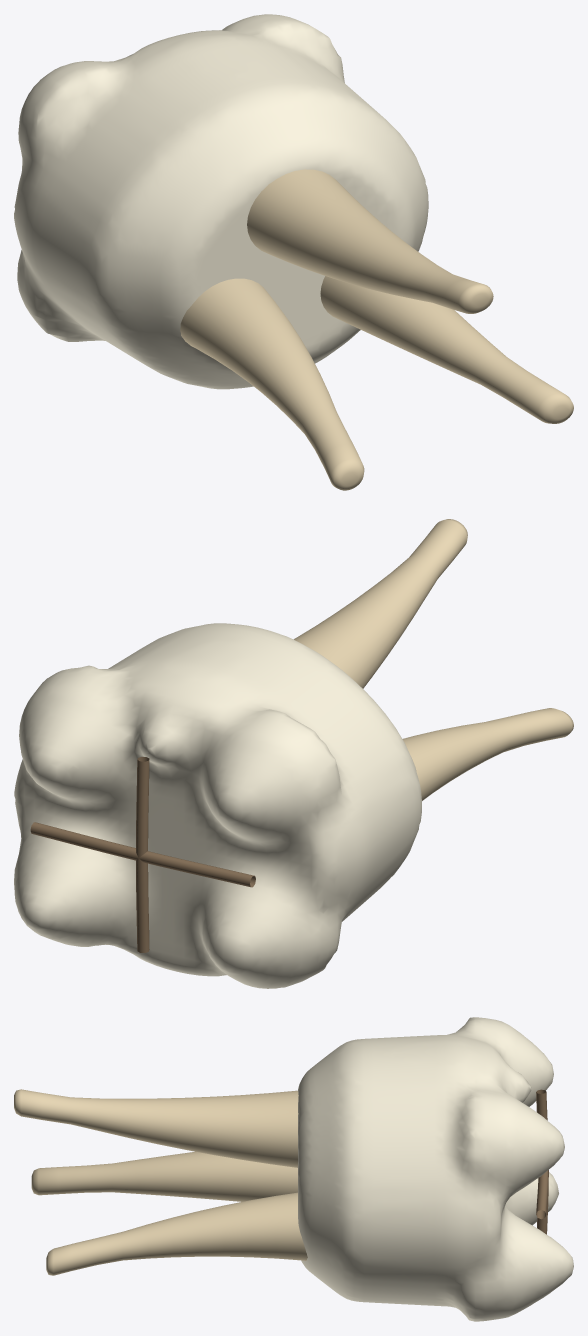
Rendered from first-molar.glb.
3 views of the same model, one above another, from view 1: azimuth 30°, elevation 25°; view 2: azimuth 150°, elevation 25°; view 3: azimuth 270°, elevation 25° (orthographic). The views are drawn at different scales.
Visible parts, largest first — view 1: Crown_Anatomical.005, Root_Palatal, Root_Buccal_1, Root_Buccal_2; view 2: Crown_Anatomical.005, Root_Palatal, Root_Buccal_1, Mesiodistal_Groove, Buccolingual_Groove; view 3: Crown_Anatomical.005, Root_Palatal, Root_Buccal_2, Root_Buccal_1, Buccolingual_Groove, Mesiodistal_Groove.
Boxes of the visible parts, x1,y1,x2,y2 form: Crown_Anatomical.005: [14, 14, 428, 389]; Root_Palatal: [247, 169, 493, 313]; Root_Buccal_1: [180, 278, 364, 490]; Root_Buccal_2: [320, 276, 573, 423]; Crown_Anatomical.005: [14, 623, 421, 988]; Root_Palatal: [294, 519, 467, 688]; Root_Buccal_1: [402, 708, 573, 800]; Mesiodistal_Groove: [30, 822, 255, 887]; Buccolingual_Groove: [136, 757, 149, 952]; Crown_Anatomical.005: [298, 1017, 573, 1321]; Root_Palatal: [14, 1089, 298, 1167]; Root_Buccal_2: [46, 1192, 307, 1275]; Root_Buccal_1: [31, 1151, 297, 1201]; Buccolingual_Groove: [536, 1089, 548, 1234]; Mesiodistal_Groove: [536, 1170, 548, 1219].
Bounding box in the file's own units: 1.11 × 0.9292 × 1.93.
